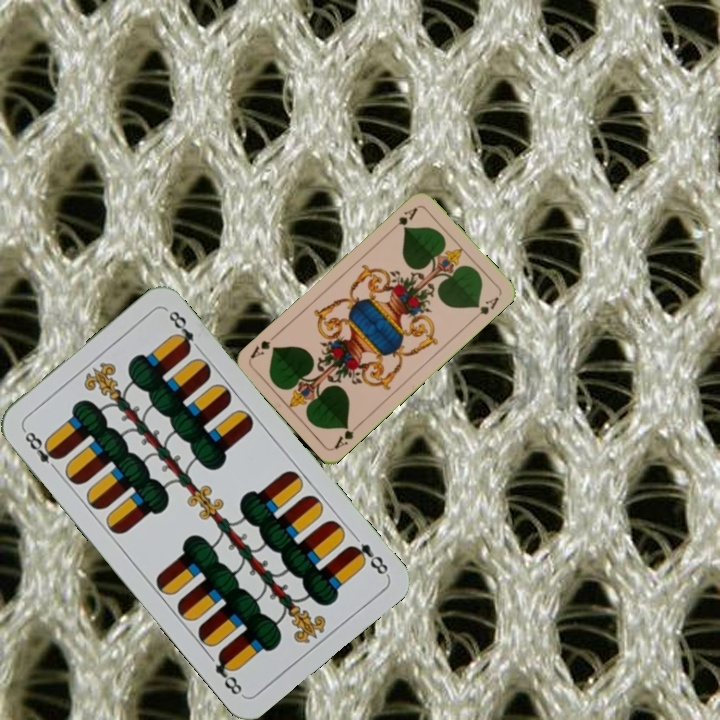E8: (19, 425, 63, 475), (344, 539, 391, 578)
GA: (331, 419, 363, 452), (387, 203, 420, 234)
